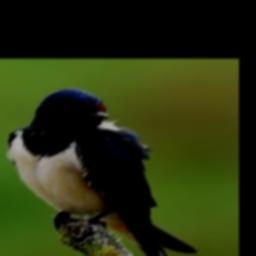Swallow: (5, 87, 200, 256)
